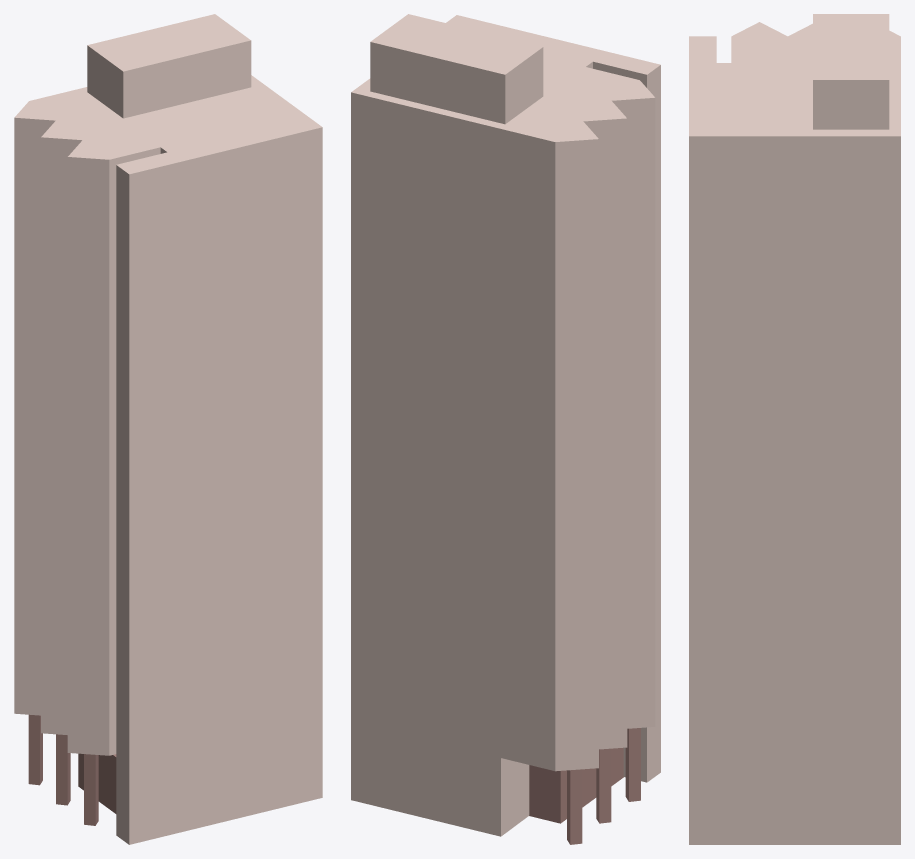
File: Edificio012.FBX
3 renders of one model, left to right at view 1: azimuth 30°, elevation 25°; view 2: azimuth 150°, elevation 25°; view 3: azimuth 270°, elevation 25°, orthographic. The views are drawn at different scales.
Parts seen in each view (by area): view 1: Edificio012; view 2: Edificio012; view 3: Edificio012.
Boxes of the visible parts, x1,y1,x2,y2 form: Edificio012: (14, 14, 322, 844); Edificio012: (351, 14, 660, 844); Edificio012: (689, 14, 900, 844).
Size of the model in its own units: 759 by 2349 by 594.
